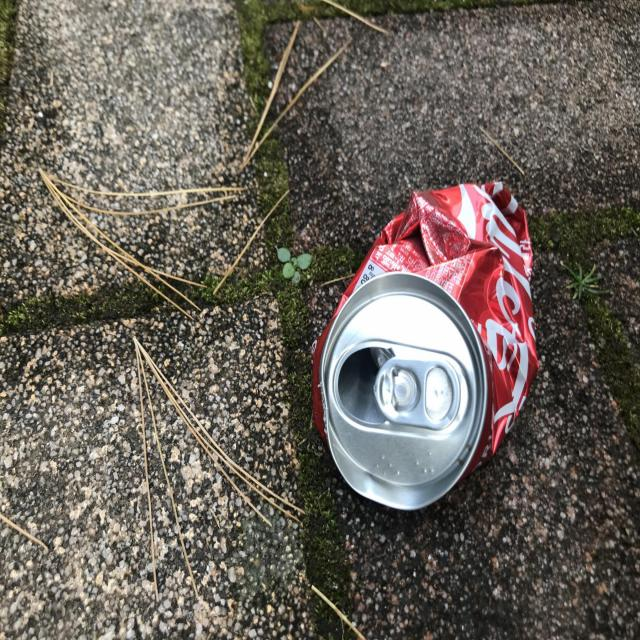can: (313, 182, 539, 510)
